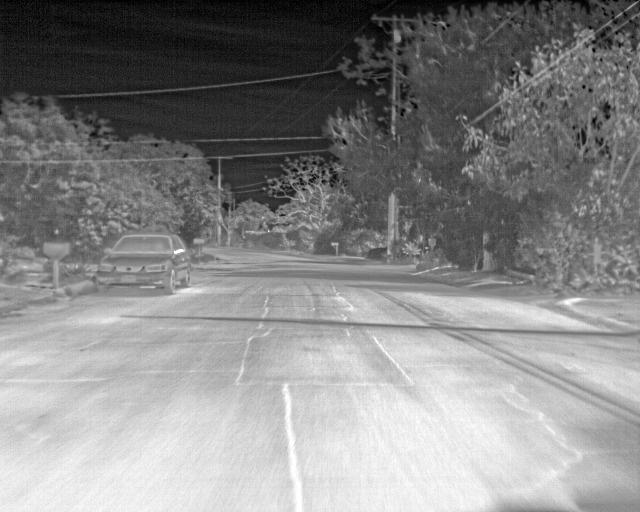car: (93, 232, 193, 295)
